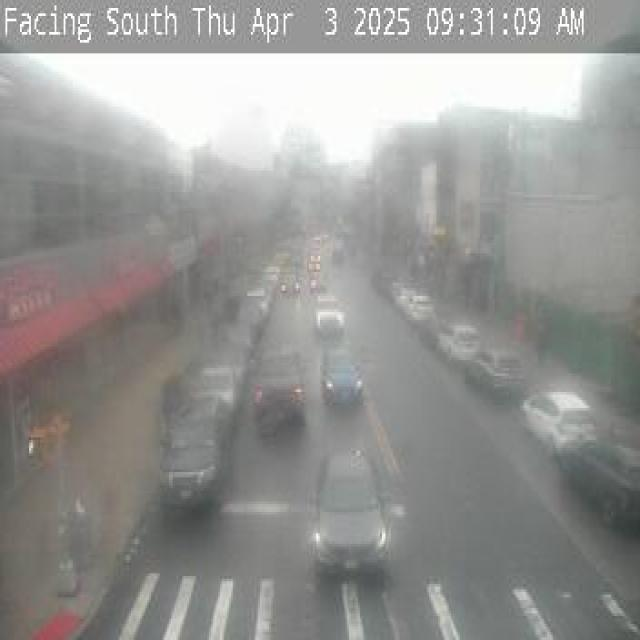open parking: (382, 291, 633, 574), (174, 263, 272, 499)
